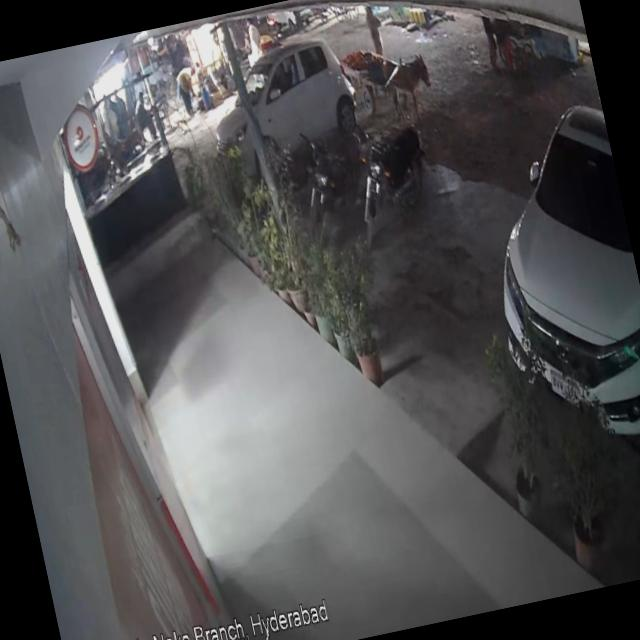Car: (457, 80, 640, 475), (199, 30, 386, 190)
Motorcycle: (345, 104, 447, 253), (281, 110, 377, 240)
